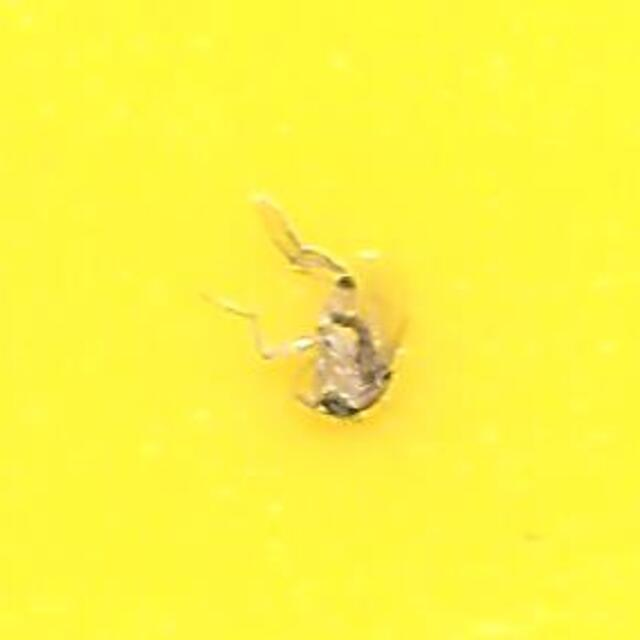Nematocera: (225, 213, 415, 427)
